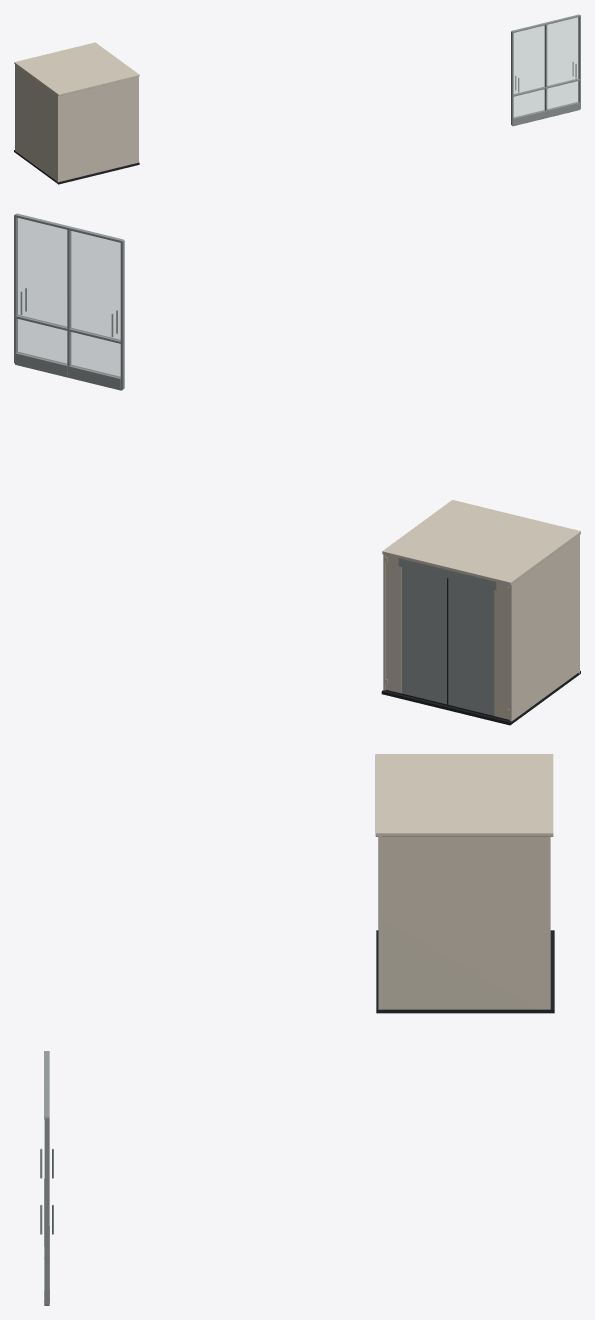
Rendered from scranton-elevator.glb.
The picture shows the model from 3 angles, top to bottom: view 1: azimuth 30°, elevation 25°; view 2: azimuth 150°, elevation 25°; view 3: azimuth 270°, elevation 25°; orthographic projection. The views are drawn at different scales.
Parts seen in each view (by area): view 1: Cabin_Ground lobby cream paint, EntryDoorLeft_Smoky storefront glass, EntryDoorRight_Smoky storefront glass, EntryDoorLeft_Aluminum storefront and lift trim, EntryDoorRight_Aluminum storefront and lift trim, Cabin_Black office plastic; view 2: Cabin_Ground lobby cream paint, EntryDoorRight_Smoky storefront glass, EntryDoorLeft_Smoky storefront glass, CabinDoorLeft_Aluminum storefront and lift trim, CabinDoorRight_Aluminum storefront and lift trim, EntryDoorLeft_Aluminum storefront and lift trim, EntryDoorRight_Aluminum storefront and lift trim, Cabin_Black office plastic, Cabin_Aluminum storefront and lift trim; view 3: Cabin_Ground lobby cream paint, Cabin_Black office plastic, EntryDoorLeft_Aluminum storefront and lift trim.
Boxes of the visible parts, x1,y1,x2,y2 form: Cabin_Ground lobby cream paint: (14,42,139,182); EntryDoorLeft_Smoky storefront glass: (547,17,578,109); EntryDoorRight_Smoky storefront glass: (514,25,544,117); EntryDoorLeft_Aluminum storefront and lift trim: (544,14,580,117); EntryDoorRight_Aluminum storefront and lift trim: (511,22,546,126); Cabin_Black office plastic: (14,150,139,184); Cabin_Ground lobby cream paint: (382,500,580,721); EntryDoorRight_Smoky storefront glass: (71,231,120,377); EntryDoorLeft_Smoky storefront glass: (18,218,66,364); CabinDoorLeft_Aluminum storefront and lift trim: (448,578,494,715); CabinDoorRight_Aluminum storefront and lift trim: (401,567,446,704); EntryDoorLeft_Aluminum storefront and lift trim: (14,213,71,377); EntryDoorRight_Aluminum storefront and lift trim: (68,226,124,390); Cabin_Black office plastic: (381,671,580,725); Cabin_Aluminum storefront and lift trim: (398,558,496,590); Cabin_Ground lobby cream paint: (375,754,553,1009); Cabin_Black office plastic: (376,930,554,1013); EntryDoorLeft_Aluminum storefront and lift trim: (40,1084,53,1305).
Bounding box in the file's own units: 89.28 × 23.85 × 45.24.
